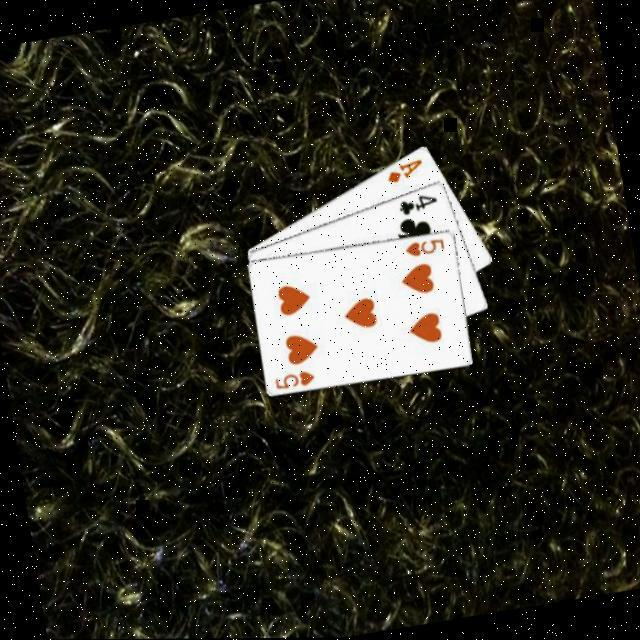4C: (393, 192, 440, 222)
5H: (269, 368, 317, 396), (399, 236, 446, 263)
AD: (381, 158, 426, 188)
